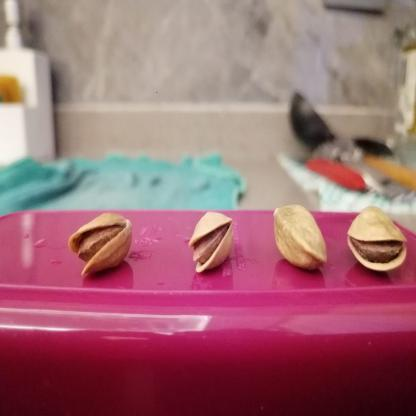pistachio: (69, 205, 134, 281), (348, 205, 409, 274), (275, 203, 329, 273), (186, 211, 239, 272)
